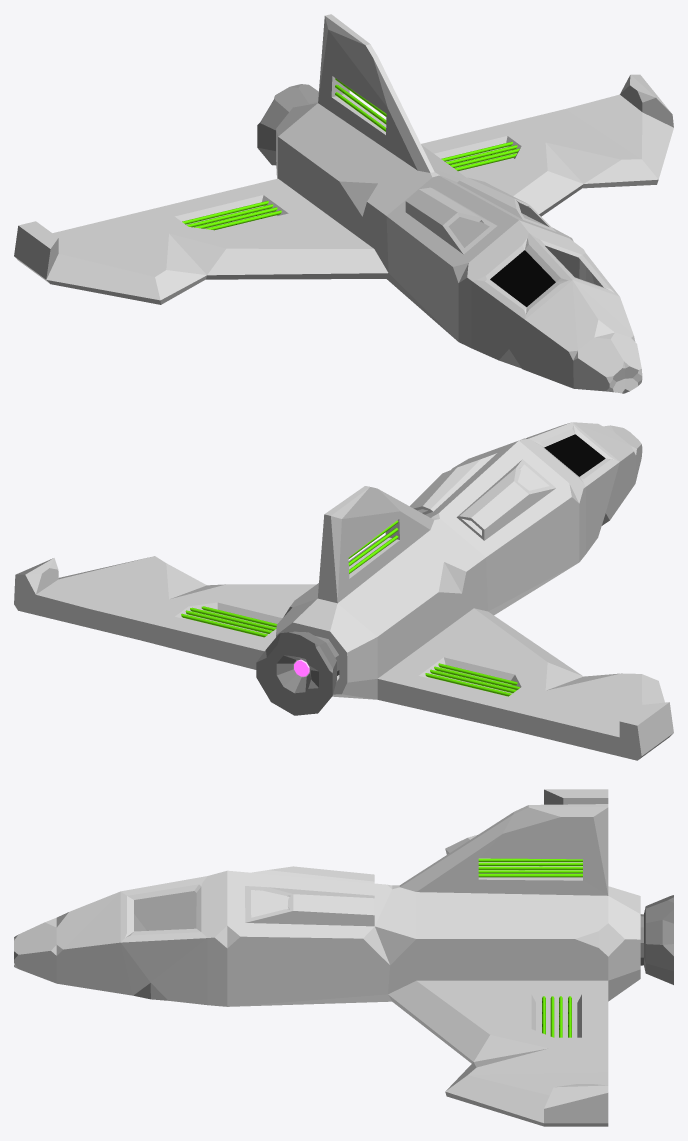
File: rocket_plane_1.glb
3 views of the same model, one above another, from view 1: azimuth 30°, elevation 25°; view 2: azimuth 150°, elevation 25°; view 3: azimuth 270°, elevation 25° (orthographic).
Parts seen in each view (by area): view 1: RocketBody, RocketWindows, RocketEngine, WiresWingRight, WiresWingLeft, WiresTopRight; view 2: RocketBody, RocketEngine, WiresWingRight, WiresWingLeft, RocketWindows, WiresTopRight; view 3: RocketBody, RocketEngine, WiresTopLeft, WiresTopRight, WiresWingLeft.
Part boxes in pixels (<box>): RocketBody: <box>14,14,673,393</box>; RocketWindows: <box>490,250,555,306</box>; RocketEngine: <box>257,84,318,165</box>; WiresWingRight: <box>182,201,281,230</box>; WiresWingLeft: <box>441,141,519,171</box>; WiresTopRight: <box>335,78,386,131</box>; RocketBody: <box>14,422,673,760</box>; RocketEngine: <box>256,632,339,715</box>; WiresWingRight: <box>425,663,519,696</box>; WiresWingLeft: <box>181,606,276,637</box>; RocketWindows: <box>544,434,605,476</box>; WiresTopRight: <box>348,520,398,573</box>; RocketBody: <box>14,789,640,1126</box>; RocketEngine: <box>640,895,673,984</box>; WiresTopLeft: <box>478,858,582,877</box>; WiresTopRight: <box>478,862,582,873</box>; WiresWingLeft: <box>542,996,571,1037</box>.
Size of the model in its own units: 10.89 by 3 by 9.95.
